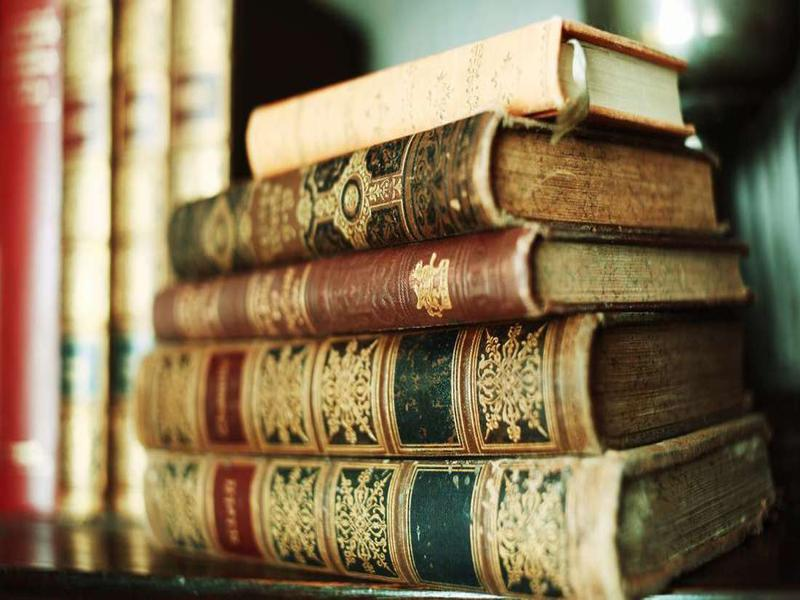book: (162, 116, 746, 274)
